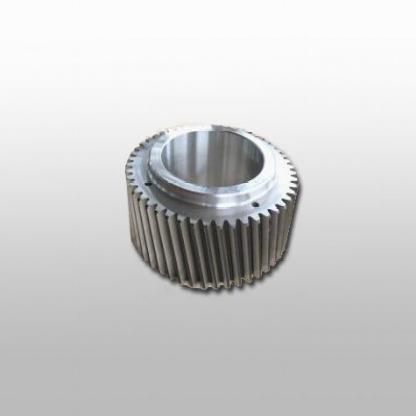FOD: (121, 121, 308, 295)
